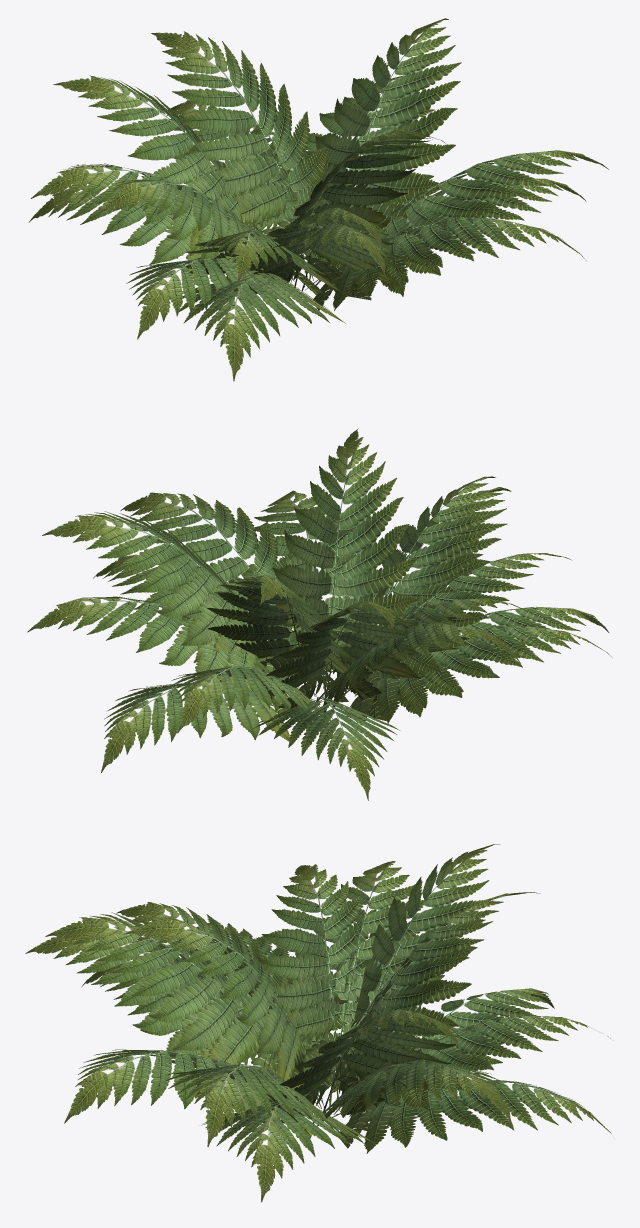
Rendered from kapradi_0.glb.
3 renders of one model, top to bottom at view 1: azimuth 30°, elevation 25°; view 2: azimuth 150°, elevation 25°; view 3: azimuth 270°, elevation 25°, orthographic. The views are drawn at different scales.
Visible parts, largest first — view 1: SM_MZRa_Fern_B0512_MI_MZRa_Fern_B051_0; view 2: SM_MZRa_Fern_B0512_MI_MZRa_Fern_B051_0; view 3: SM_MZRa_Fern_B0512_MI_MZRa_Fern_B051_0.
Boxes of the visible parts, left/top/right/bottom form: SM_MZRa_Fern_B0512_MI_MZRa_Fern_B051_0: left=28, top=18, right=608, bottom=381; SM_MZRa_Fern_B0512_MI_MZRa_Fern_B051_0: left=27, top=428, right=612, bottom=800; SM_MZRa_Fern_B0512_MI_MZRa_Fern_B051_0: left=25, top=844, right=611, bottom=1202.
Size of the model in its own units: 1.78 by 0.688 by 1.75.
Materials: 1 (1 with a texture image).
